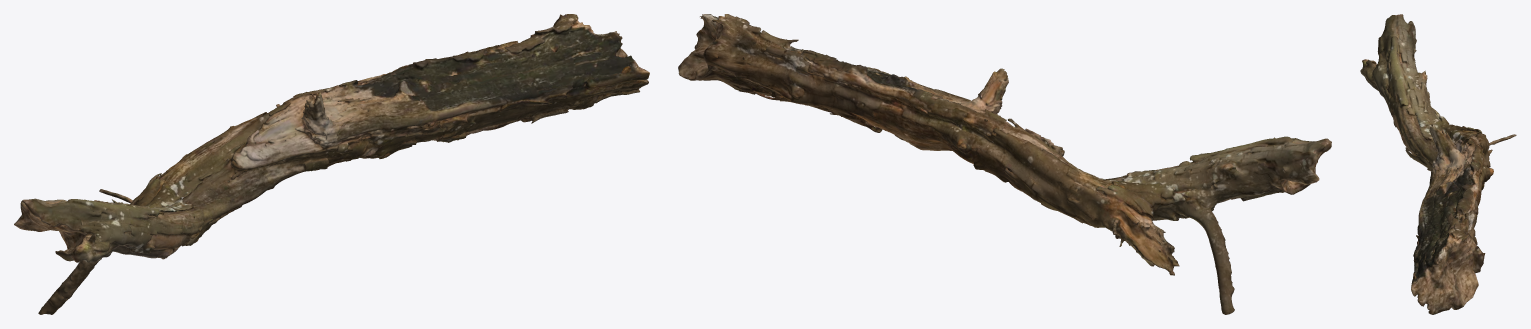
File: dead_tree_trunk_02.glb
The picture shows the model from 3 angles, left to right: view 1: azimuth 30°, elevation 25°; view 2: azimuth 150°, elevation 25°; view 3: azimuth 270°, elevation 25°; orthographic projection. The views are drawn at different scales.
Visible parts, largest first — view 1: dead_tree_trunk_02; view 2: dead_tree_trunk_02; view 3: dead_tree_trunk_02.
Part boxes in pixels (x1,y1,x2,y2): dead_tree_trunk_02: [14, 14, 649, 314]; dead_tree_trunk_02: [678, 14, 1331, 314]; dead_tree_trunk_02: [1360, 14, 1516, 314].
Size of the model in its own units: 4.05 by 1.06 by 1.06.
Materials: 1 (1 with a texture image).
